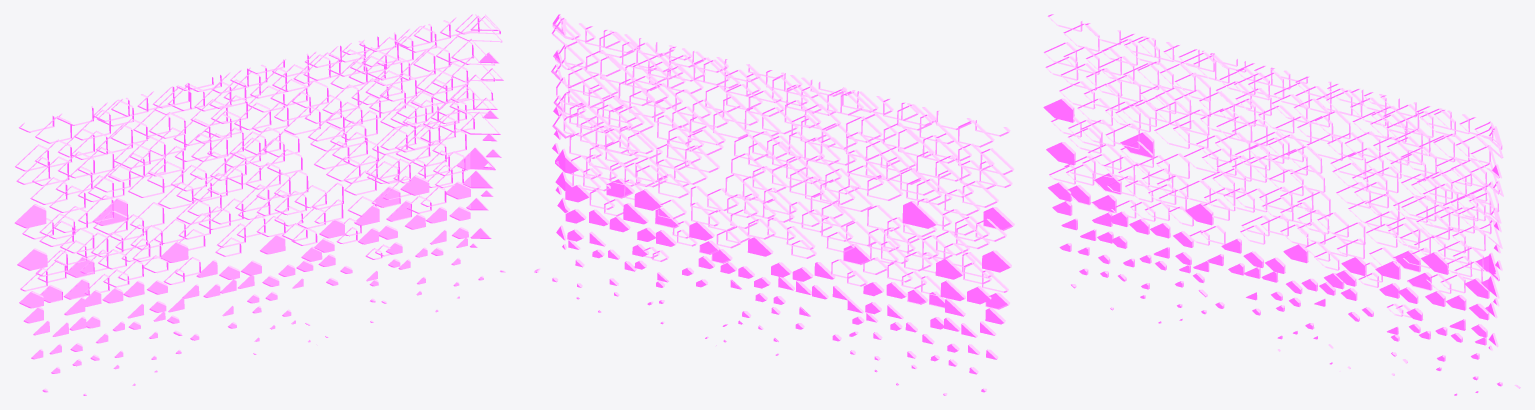
File: Wall decoration neon 4.glb
3 renders of one model, left to right at view 1: azimuth 30°, elevation 25°; view 2: azimuth 150°, elevation 25°; view 3: azimuth 330°, elevation 25°, orthographic. The views are drawn at different scales.
Visible parts, largest first — view 1: Decoration right leds.001; view 2: Decoration right leds.001; view 3: Decoration right leds.001.
Boxes of the visible parts, bbox=[...] form: Decoration right leds.001: bbox=[14, 14, 505, 395]; Decoration right leds.001: bbox=[534, 14, 1014, 395]; Decoration right leds.001: bbox=[1043, 14, 1520, 395].
Bounding box in the file's own units: 8.17 × 4.7 × 0.3076.
